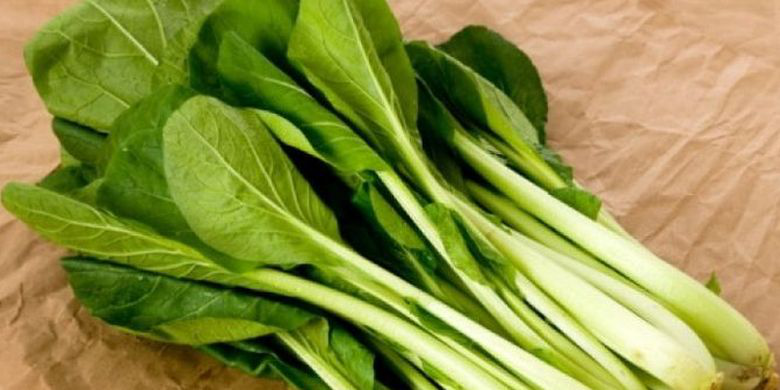Sawi: (6, 5, 774, 390)
